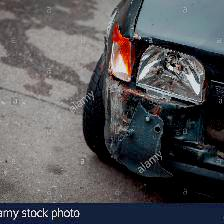head_lamp: (105, 84, 174, 177), (137, 40, 208, 106)
